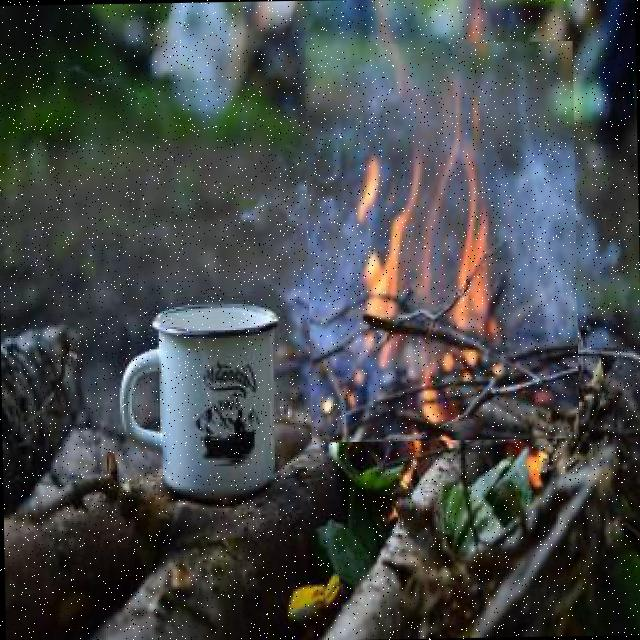fire: (304, 40, 579, 442)
